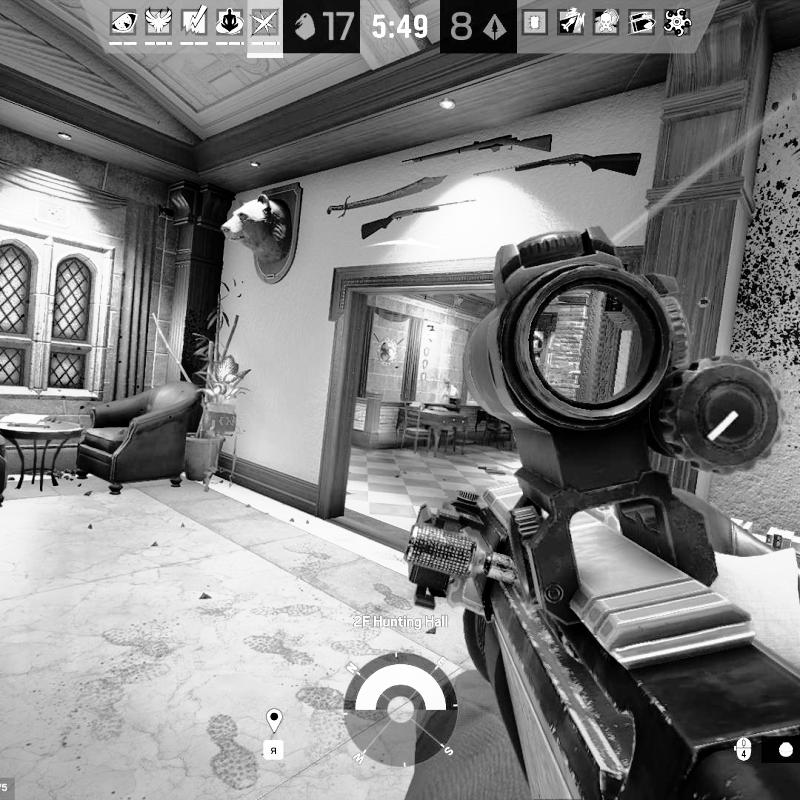Character: (439, 376, 460, 403)
Head: (443, 378, 452, 388)
